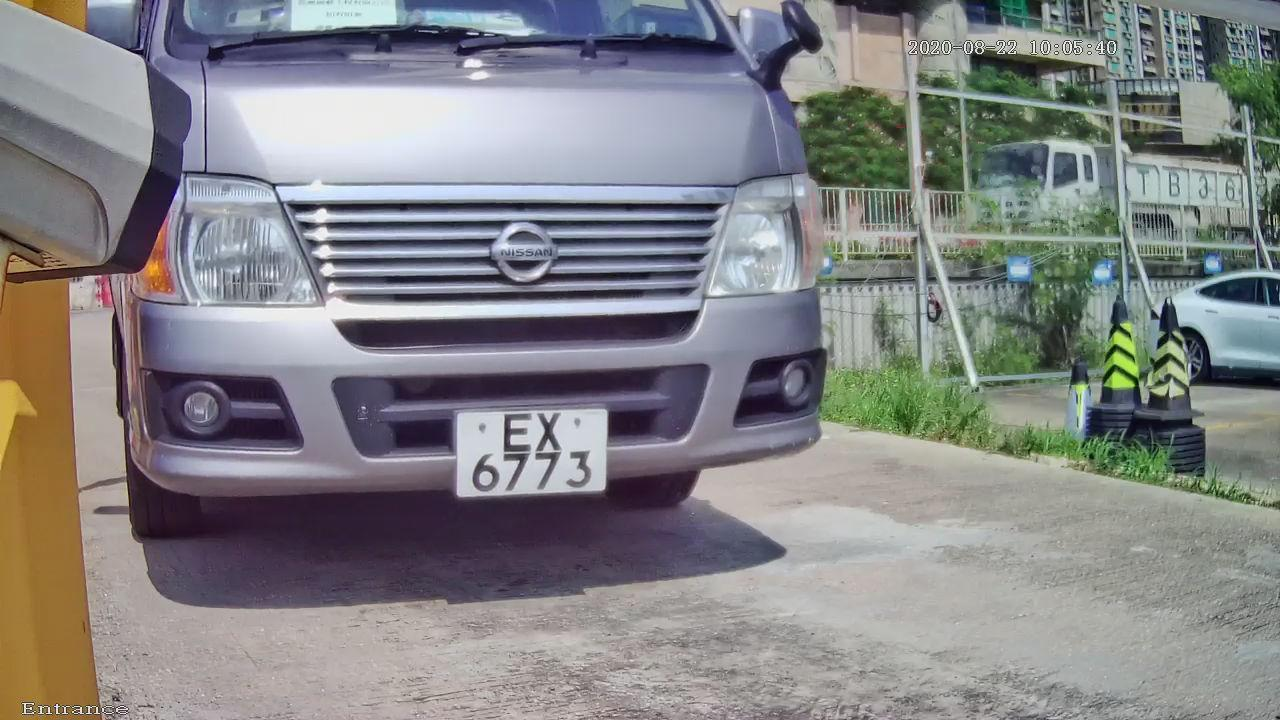Car: (35, 10, 875, 614)
License Plate: (435, 399, 618, 502)
